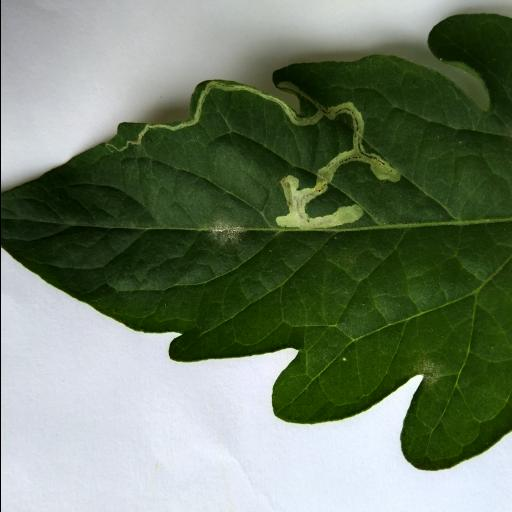Leaf Miner: (0, 14, 512, 472)
